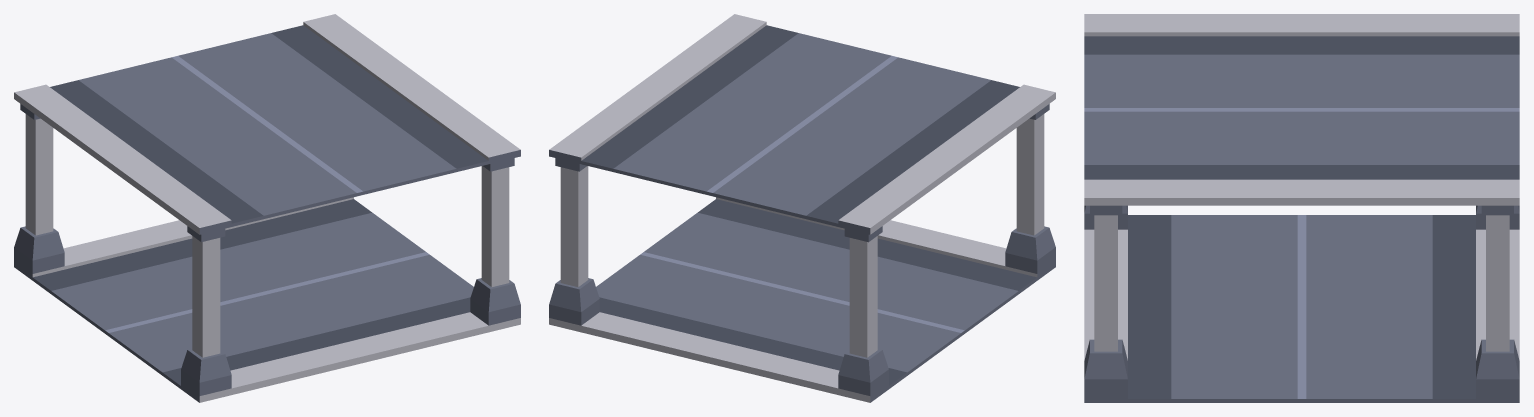
Rendered from road_bridge.glb.
3 renders of one model, left to right at view 1: azimuth 30°, elevation 25°; view 2: azimuth 150°, elevation 25°; view 3: azimuth 270°, elevation 25°, orthographic. The views are drawn at different scales.
Parts seen in each view (by area): view 1: road_bridge_10105f, road_bridge_3cbbc8, road_bridge_c884db, road_bridge_4a8b1d; view 2: road_bridge_10105f, road_bridge_3cbbc8, road_bridge_c884db, road_bridge_4a8b1d; view 3: road_bridge_10105f, road_bridge_3cbbc8, road_bridge_c884db, road_bridge_4a8b1d.
Part boxes in pixels (<box>): road_bridge_10105f: <box>14,33,520,402</box>; road_bridge_3cbbc8: <box>14,14,520,402</box>; road_bridge_c884db: <box>33,25,488,385</box>; road_bridge_4a8b1d: <box>105,56,429,332</box>; road_bridge_10105f: <box>549,33,1055,402</box>; road_bridge_3cbbc8: <box>549,14,1055,402</box>; road_bridge_c884db: <box>581,25,1036,385</box>; road_bridge_4a8b1d: <box>640,56,964,332</box>; road_bridge_10105f: <box>1084,54,1519,402</box>; road_bridge_3cbbc8: <box>1084,14,1519,360</box>; road_bridge_c884db: <box>1084,36,1519,398</box>; road_bridge_4a8b1d: <box>1084,108,1519,398</box>.
Bounding box in the file's own units: 1 × 0.52 × 1.
